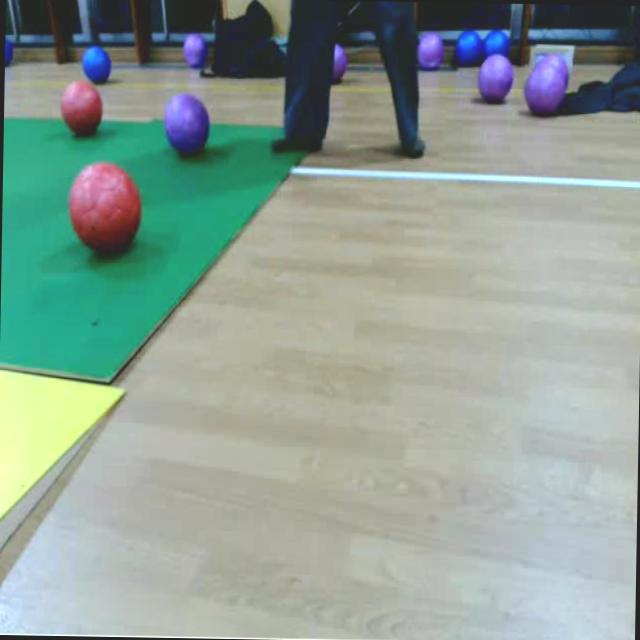blue_ball: (78, 41, 114, 82), (483, 26, 514, 66), (455, 26, 483, 66), (4, 34, 15, 68)
purple_ball: (164, 88, 218, 162), (523, 61, 565, 118), (475, 49, 514, 108), (535, 47, 571, 93), (414, 28, 444, 74), (321, 39, 349, 88), (181, 28, 206, 66)
red_ball: (64, 155, 144, 257), (59, 74, 108, 144)
